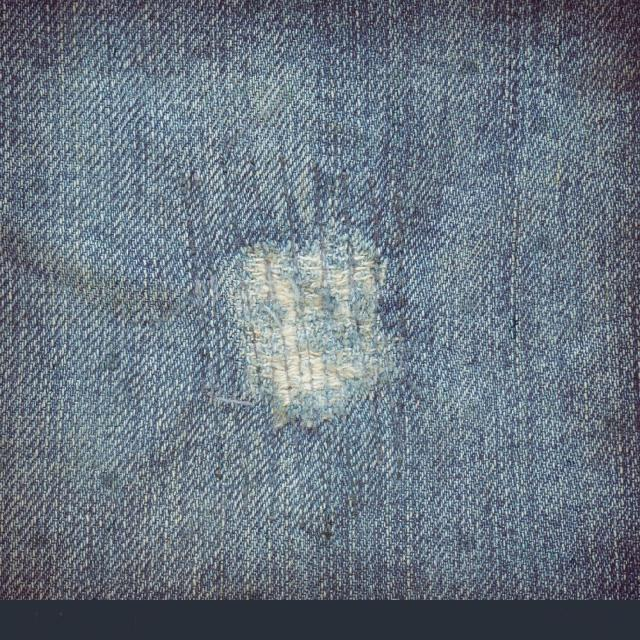Hole: (229, 234, 393, 428)
